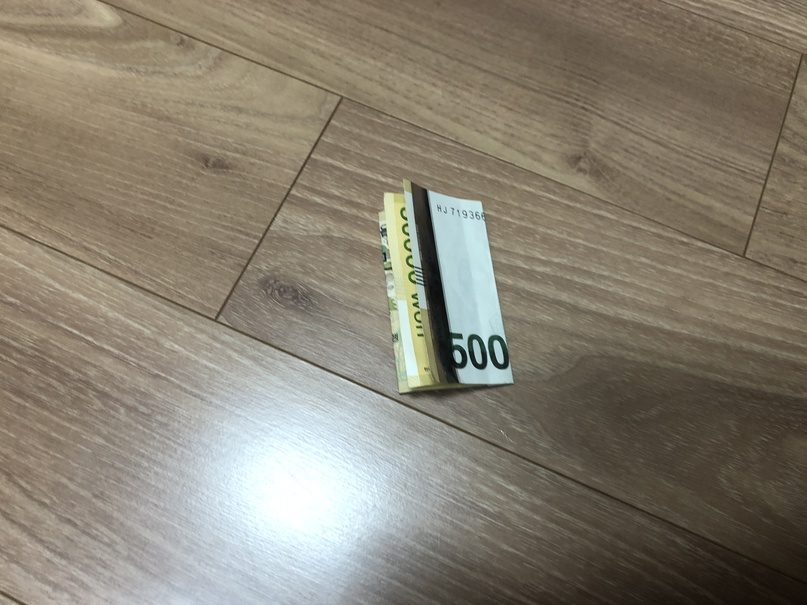50000won: (379, 178, 516, 394)
